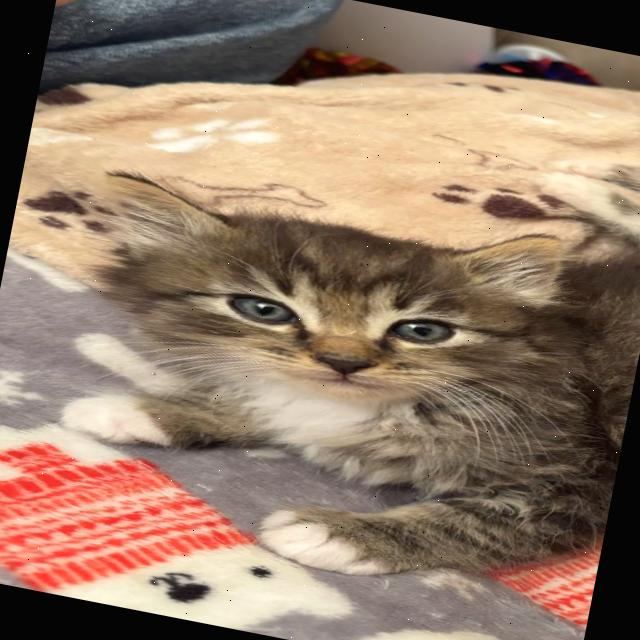domestic_long_hair_cat: (50, 136, 613, 468)
